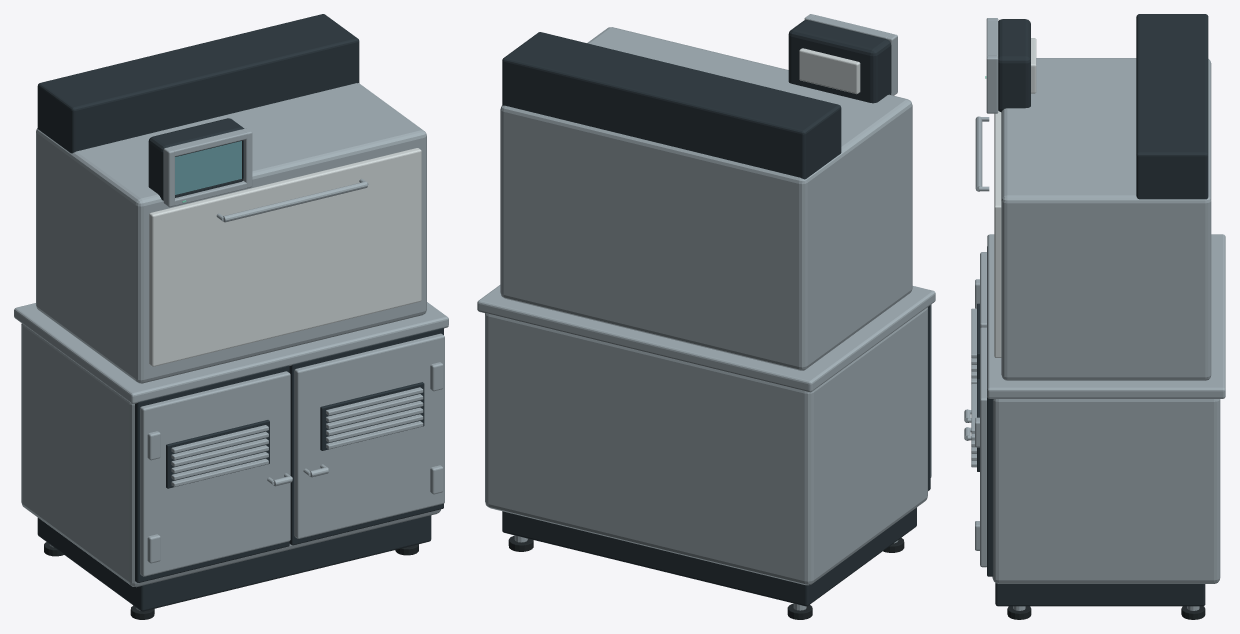
Rendered from RD_TrayDishwasher.fbx.
3 renders of one model, left to right at view 1: azimuth 30°, elevation 25°; view 2: azimuth 150°, elevation 25°; view 3: azimuth 270°, elevation 25°, orthographic. The views are drawn at different scales.
Parts seen in each view (by area): view 1: RD_TrayDishwasher; view 2: RD_TrayDishwasher; view 3: RD_TrayDishwasher.
Boxes of the visible parts, box(x1,y1,x2,y2) form: RD_TrayDishwasher: box(14, 14, 448, 619); RD_TrayDishwasher: box(477, 14, 935, 619); RD_TrayDishwasher: box(964, 14, 1225, 619).
Size of the model in its own units: 122 by 174 by 87.12.
